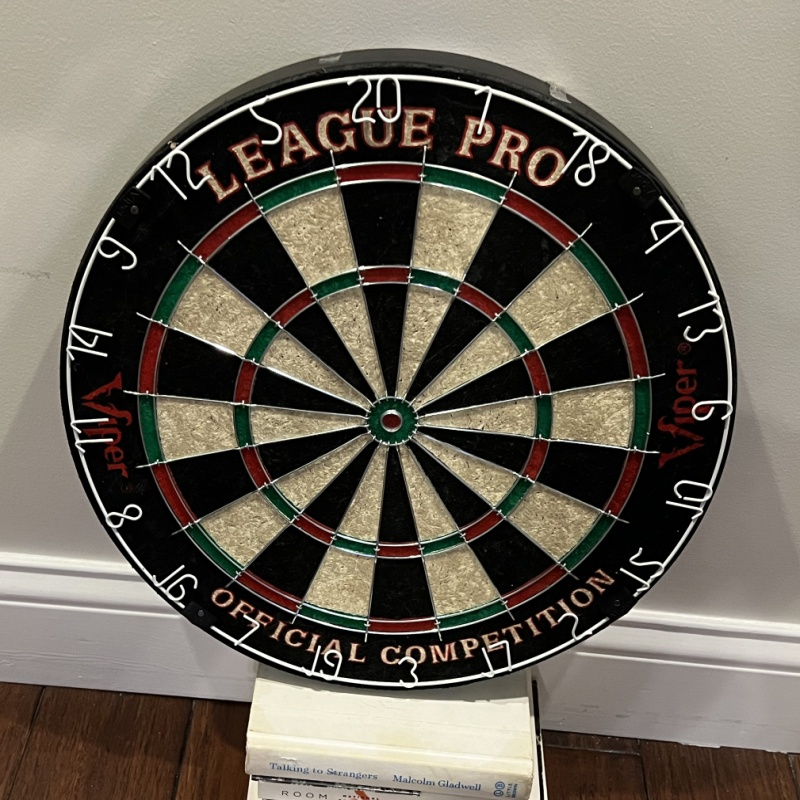eleven: (70, 417, 114, 454)
six: (690, 398, 735, 422)
three: (396, 655, 421, 689)
twenty: (348, 73, 403, 124)
